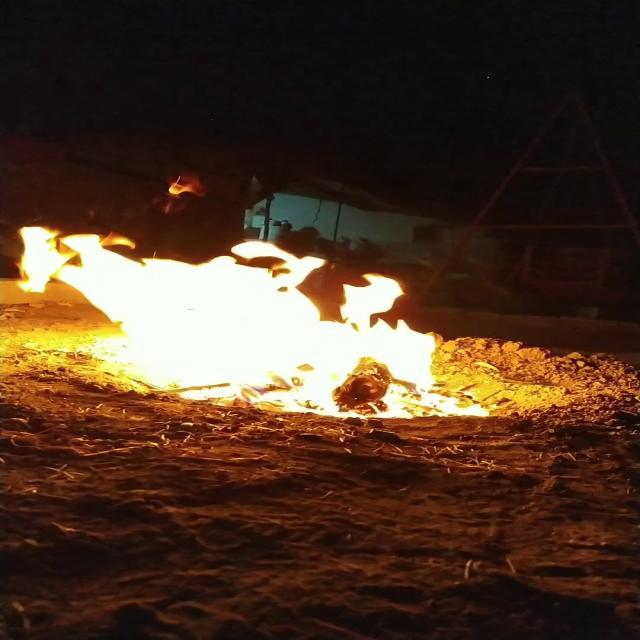Fire: (0, 214, 484, 416)
